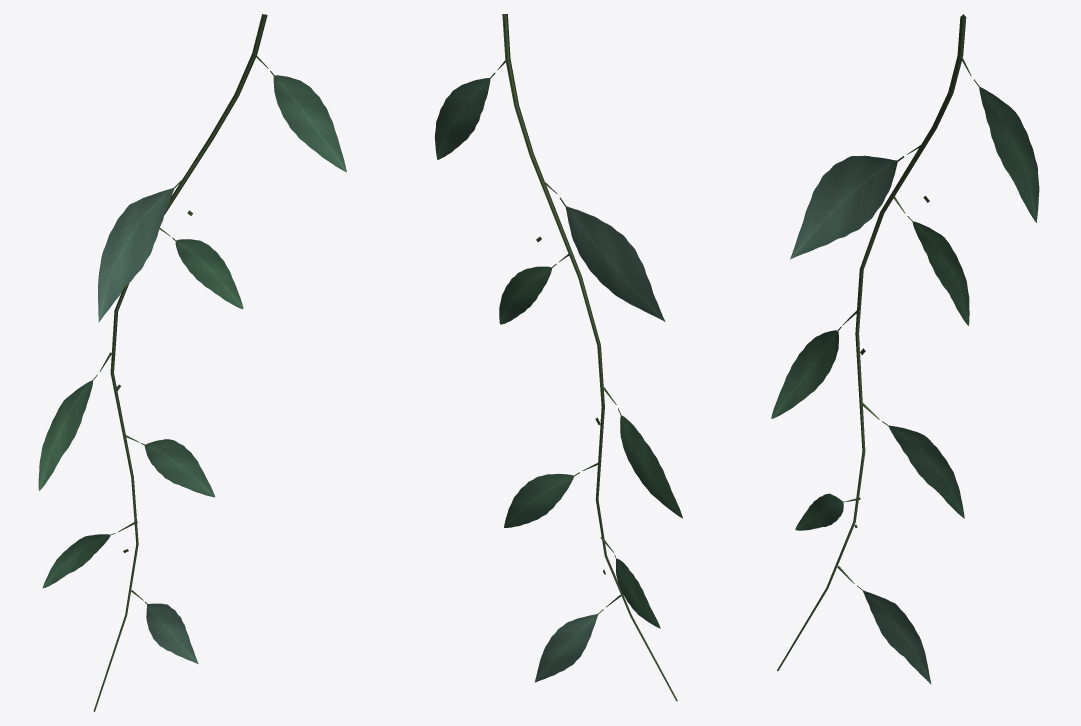
The model's file is Vine4_e3928e4e.fbx.
3 views of the same model, side by side, from view 1: azimuth 30°, elevation 25°; view 2: azimuth 150°, elevation 25°; view 3: azimuth 330°, elevation 25° (orthographic). The views are drawn at different scales.
Parts seen in each view (by area): view 1: Vine_D_FlowerConnector; view 2: Vine_D_FlowerConnector; view 3: Vine_D_FlowerConnector.
Part boxes in pixels (bbox=[...]): Vine_D_FlowerConnector: bbox=[38, 14, 346, 711]; Vine_D_FlowerConnector: bbox=[434, 14, 682, 701]; Vine_D_FlowerConnector: bbox=[771, 14, 1039, 684].
Size of the model in its own units: 31.22 by 60.25 by 6.86.
